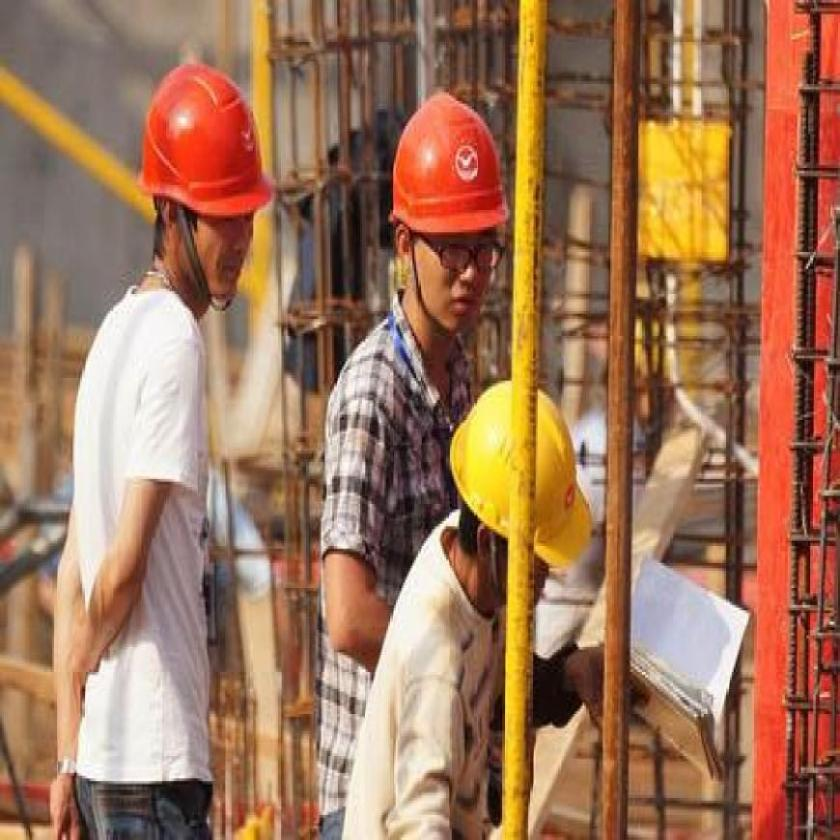Con_casco: (130, 60, 292, 316), (377, 71, 516, 330), (438, 388, 596, 572)
